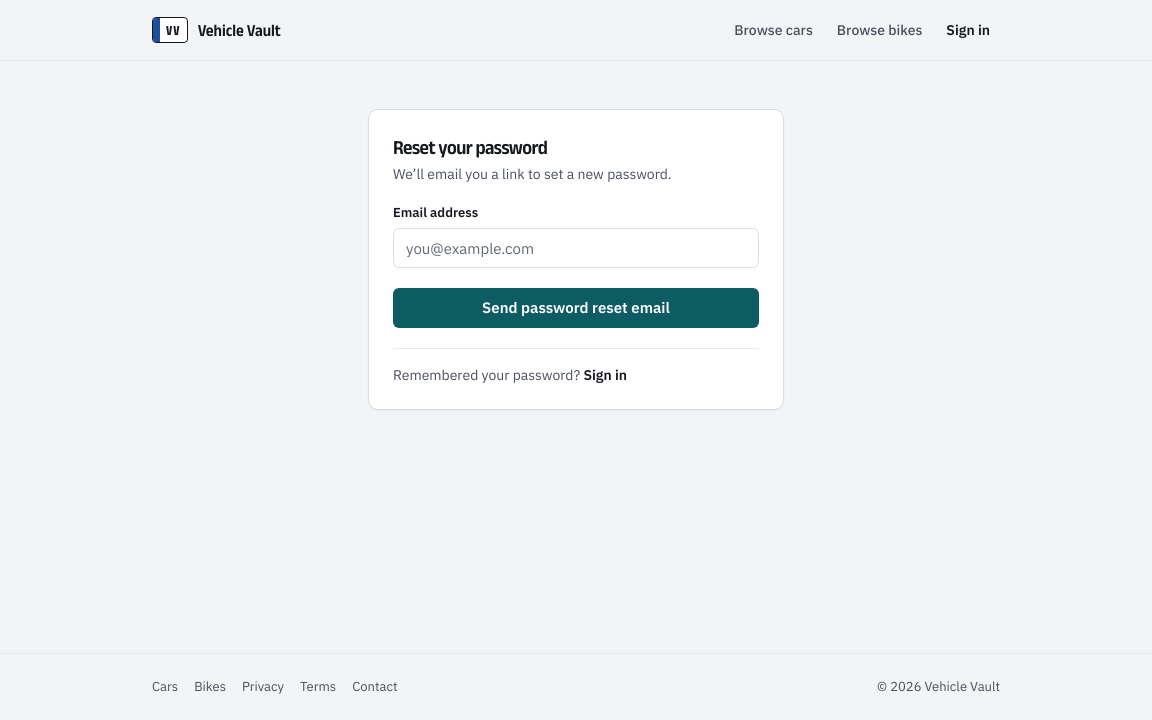
Test: ForgotPasswordPage › replaces the form with a panel that stays, naming the address and the link’s life
The image size is (1152, 720).
Type "asha@example.test" into the field labelled "Email address" at (576, 248), box [393,228,759,268]
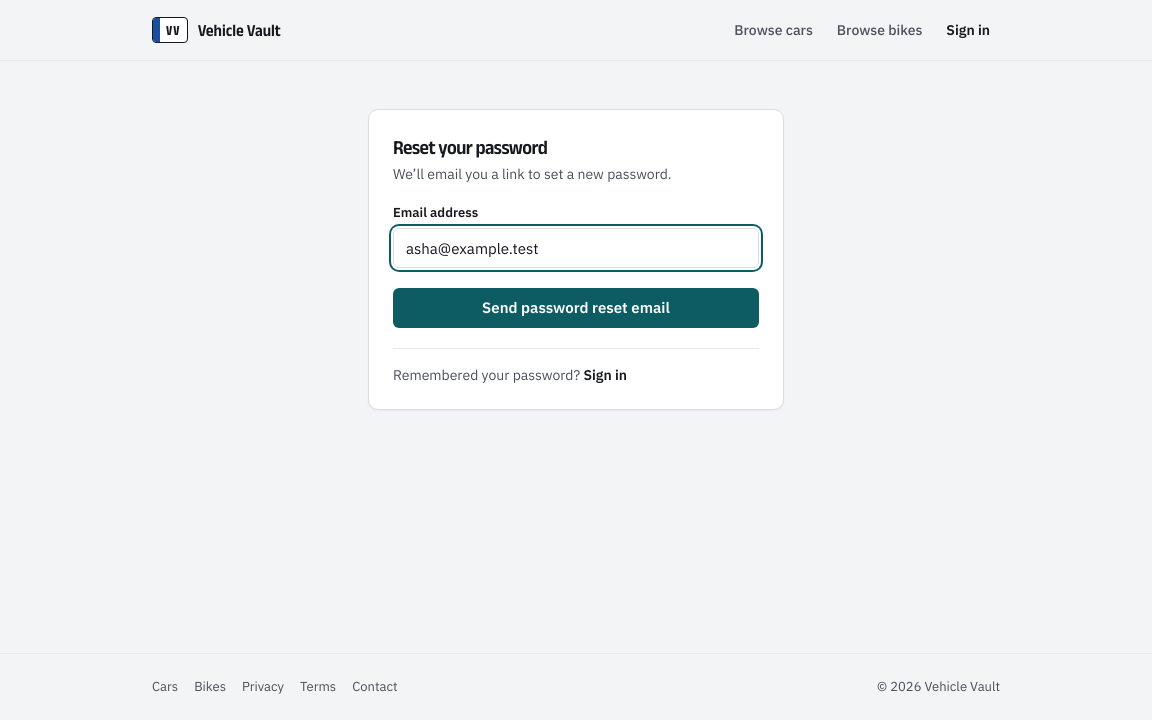
Click the button "Send password reset email" at (576, 308), box [393,288,759,328]
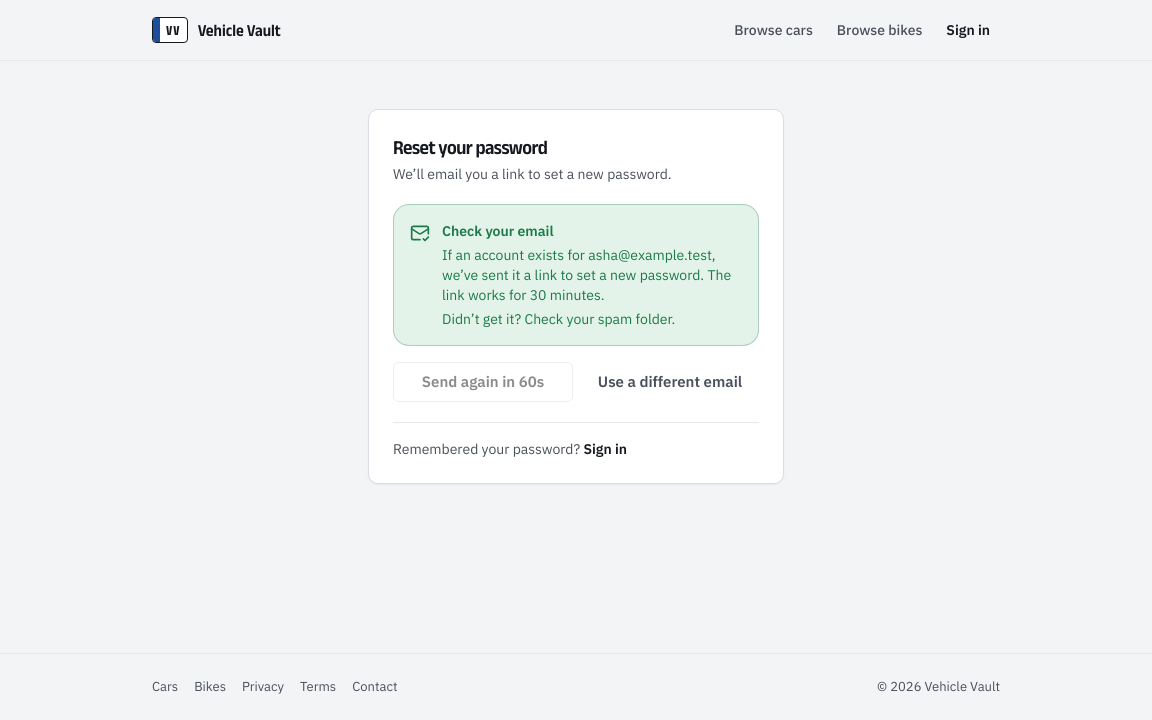
Expected: the text "Check your email" is shown, [442,222,554,240]
Expected: the text "If an account exists for asha@example.test" is shown, [442,245,742,305]
Expected: the text "works for 30 minutes" is shown, [442,246,731,304]
